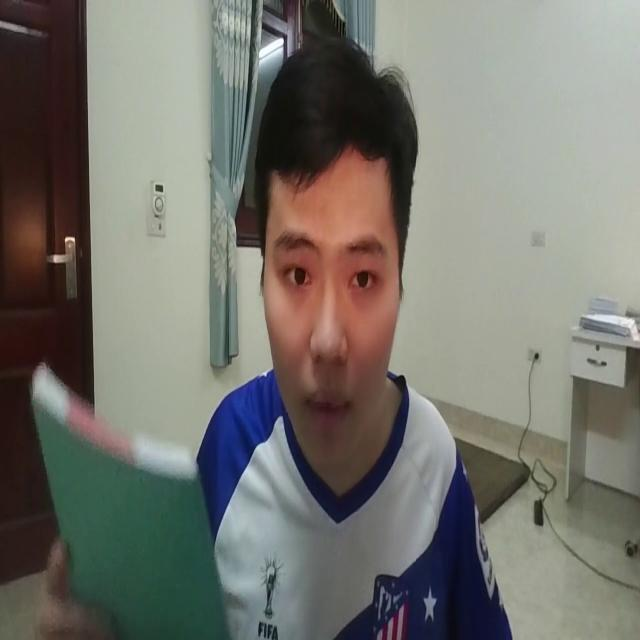book: (26, 353, 232, 640)
student: (191, 19, 516, 640)
